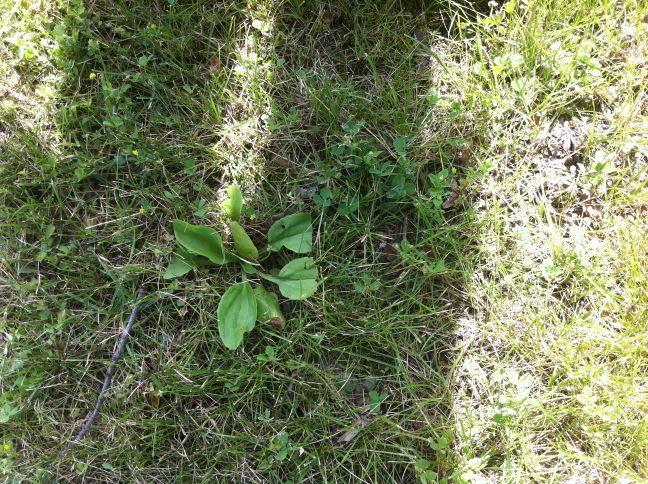weed1: (162, 175, 323, 354)
